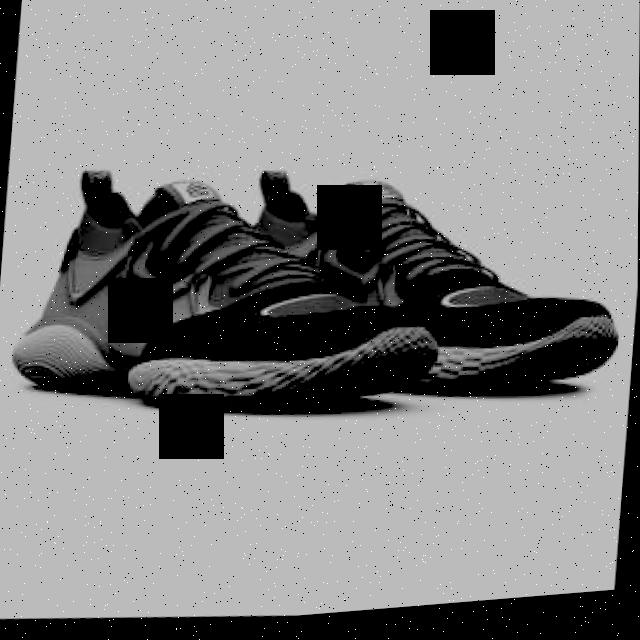shoe: (6, 145, 454, 437), (207, 147, 632, 429)
